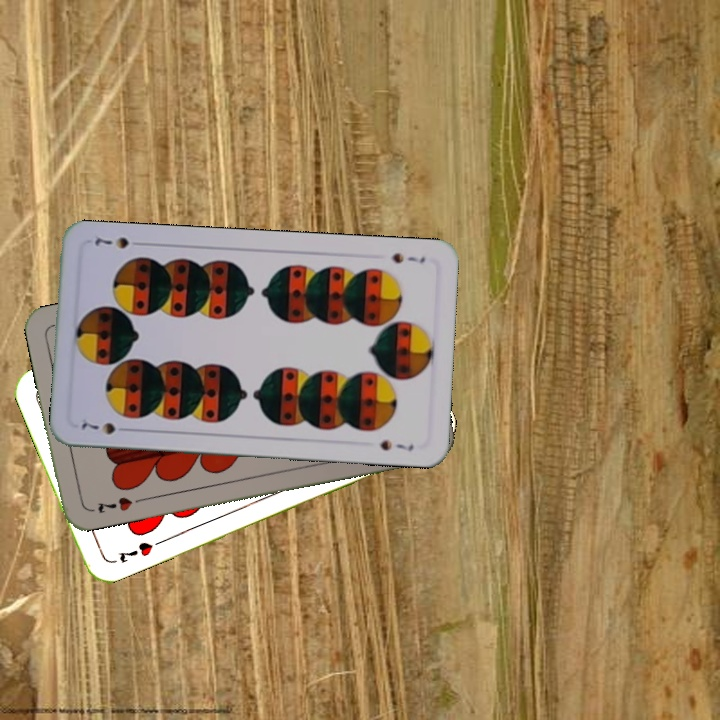H7: (115, 538, 156, 566), (93, 493, 135, 516)
S7: (77, 418, 133, 437), (387, 249, 428, 266)
